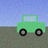vehicle: (17, 15, 45, 36)
